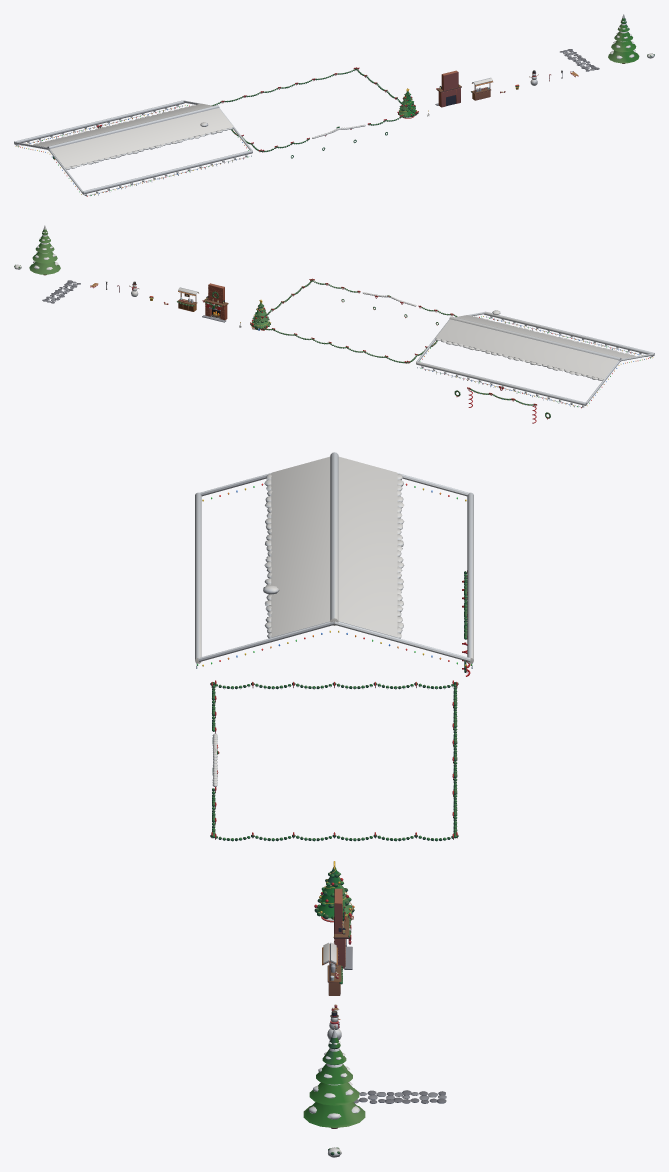
File: motel_kit_xmas.fbx
3 renders of one model, top to bottom at view 1: azimuth 30°, elevation 25°; view 2: azimuth 150°, elevation 25°; view 3: azimuth 270°, elevation 25°, orthographic. The views are drawn at different scales.
Parts seen in each view (by area): view 1: SM_Xmas_Hall_Snow, SM_Xmas_SnowPine, SM_Xmas_Fireplace, SM_Xmas_Int_Garland, SM_Xmas_Int_Bows, SM_Xmas_CocoaBar, SM_Xmas_Tree, SM_Xmas_StonePath; view 2: SM_Xmas_Hall_Snow, SM_Xmas_SnowPine, SM_Xmas_Fireplace, SM_Xmas_Int_Garland, SM_Xmas_Hall_Decor, SM_Xmas_Int_Bows, SM_Xmas_CocoaBar, SM_Xmas_Tree, SM_Xmas_StonePath; view 3: SM_Xmas_Hall_Snow, SM_Xmas_SnowPine, SM_Xmas_Int_Garland, SM_Xmas_Fireplace, SM_Xmas_Tree.
Part boxes in pixels (box(x1,y1,x2,y2)): SM_Xmas_Hall_Snow: box(14, 100, 252, 195); SM_Xmas_SnowPine: box(608, 14, 639, 63); SM_Xmas_Fireplace: box(435, 70, 461, 107); SM_Xmas_Int_Garland: box(211, 67, 418, 152); SM_Xmas_Int_Bows: box(221, 67, 418, 158); SM_Xmas_CocoaBar: box(471, 77, 492, 100); SM_Xmas_Tree: box(397, 91, 416, 118); SM_Xmas_StonePath: box(560, 49, 599, 71); SM_Xmas_Hall_Snow: box(416, 310, 654, 407); SM_Xmas_SnowPine: box(29, 225, 60, 275); SM_Xmas_Fireplace: box(202, 283, 228, 322); SM_Xmas_Int_Garland: box(250, 279, 457, 363); SM_Xmas_Hall_Decor: box(422, 318, 651, 423); SM_Xmas_Int_Bows: box(250, 278, 453, 363); SM_Xmas_CocoaBar: box(177, 287, 198, 311); SM_Xmas_Tree: box(251, 302, 270, 330); SM_Xmas_StonePath: box(42, 280, 80, 303); SM_Xmas_Hall_Snow: box(195, 452, 473, 668); SM_Xmas_SnowPine: box(303, 1029, 365, 1128); SM_Xmas_Int_Garland: box(210, 682, 458, 841); SM_Xmas_Fireplace: box(334, 888, 352, 969); SM_Xmas_Tree: box(314, 867, 354, 922).
Size of the model in its own units: 309 by 30.98 by 61.54.
